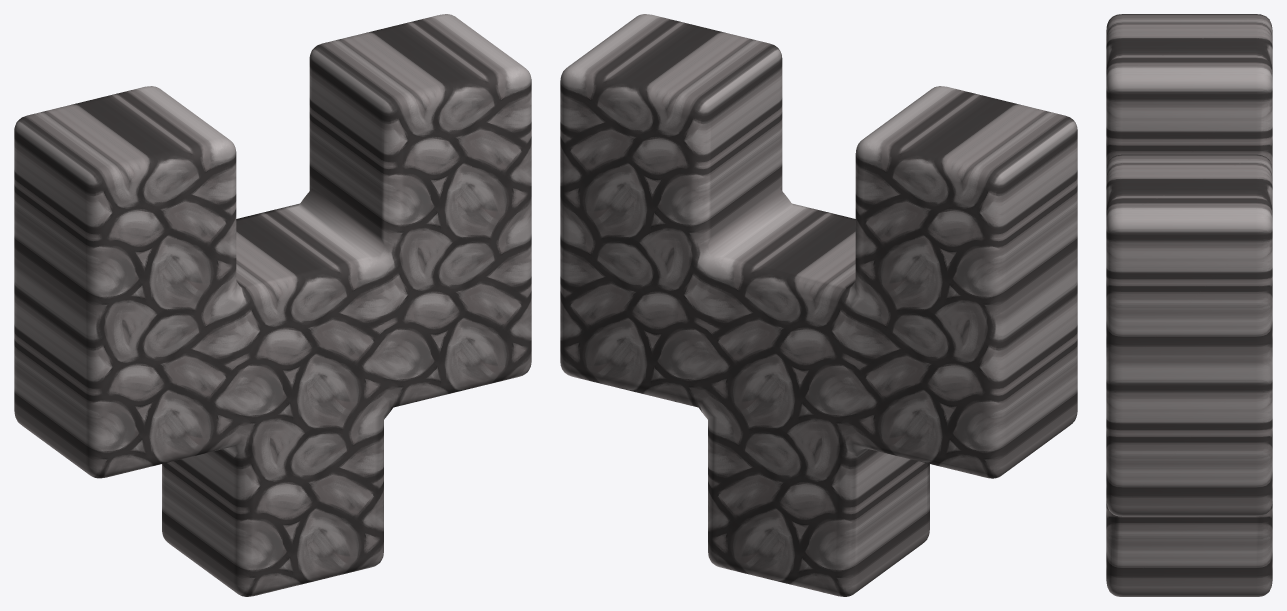
Rendered from Y_block.FBX.
The picture shows the model from 3 angles, left to right: view 1: azimuth 30°, elevation 25°; view 2: azimuth 150°, elevation 25°; view 3: azimuth 270°, elevation 25°; orthographic projection. The views are drawn at different scales.
Visible parts, largest first — view 1: Box001; view 2: Box001; view 3: Box001.
Part boxes in pixels (x1,y1,x2,y2): Box001: (14,14,531,596); Box001: (560,14,1077,596); Box001: (1106,14,1272,596).
Bounding box in the file's own units: 3 × 3 × 1.
